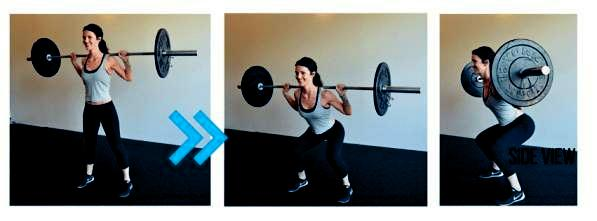Barbell: (539, 65, 552, 78)
